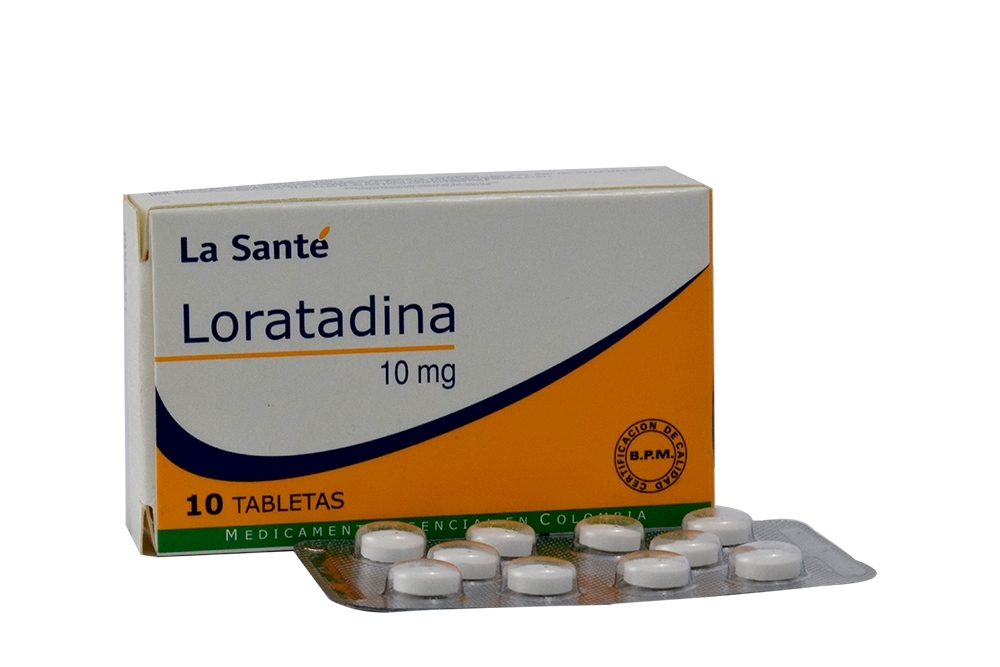LaSante: (155, 211, 714, 542)
